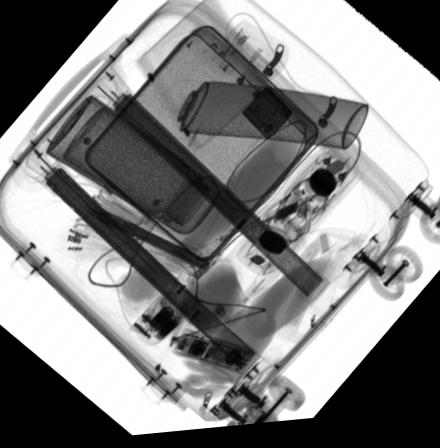Lighter: (242, 91, 293, 145)
Sprayer: (142, 80, 368, 157)
